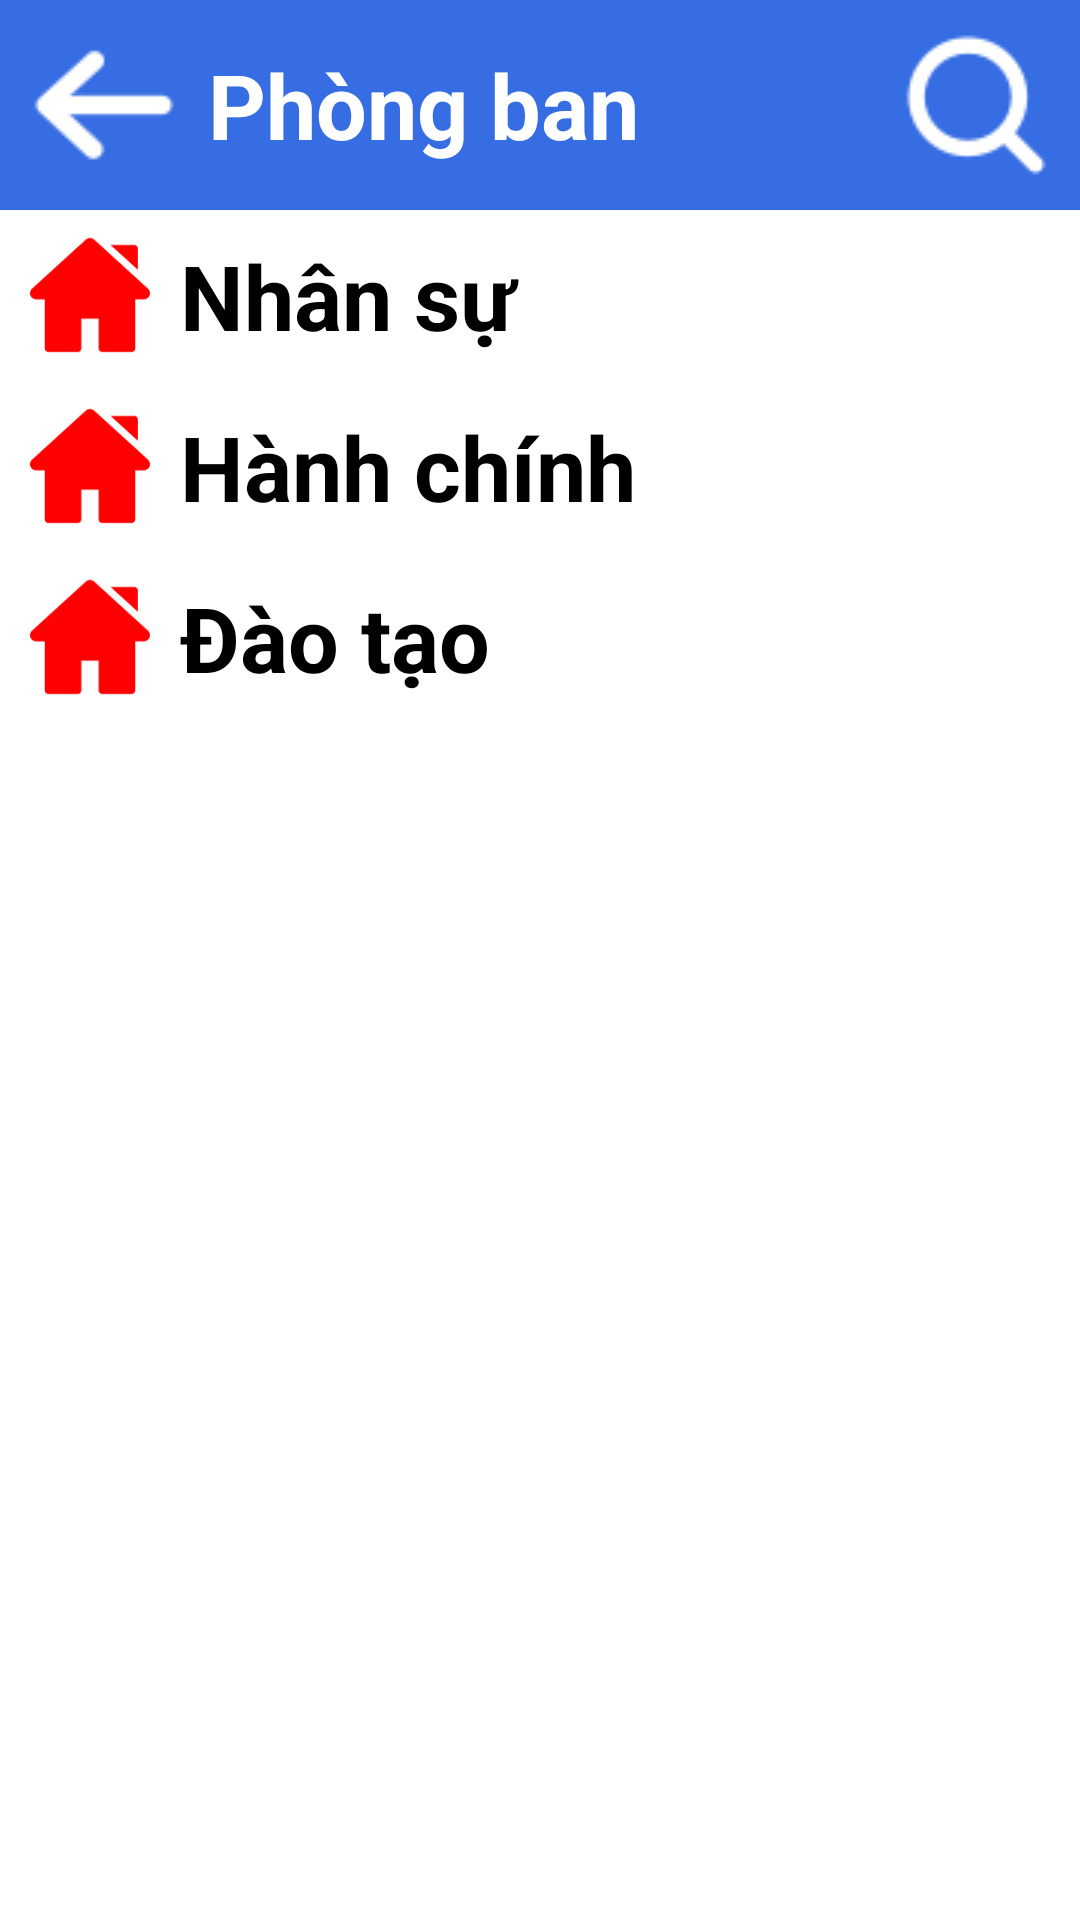

Named icons in this screenshot (1080 × 1920) and their bounding boxes, [x1,y1,x2,y2]:
back: [34,50,174,160]
home: [30,237,150,353], [30,408,150,524], [30,579,150,695]
search: [906,35,1046,175]
